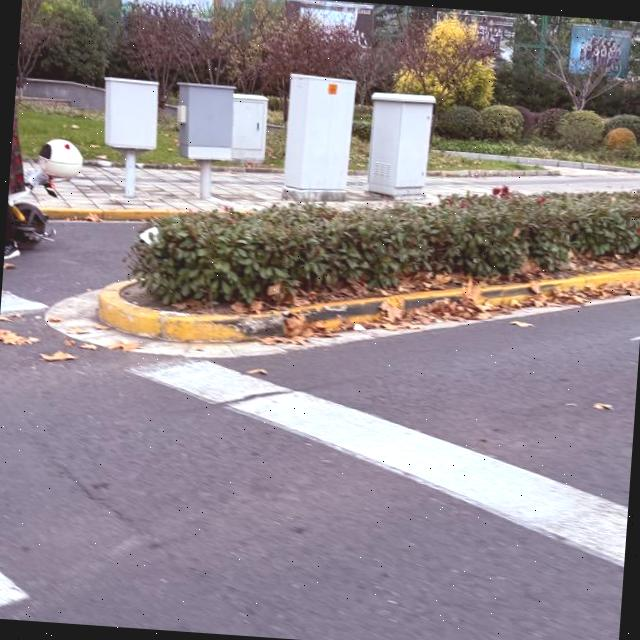curb: (96, 267, 640, 342), (444, 150, 640, 171), (40, 207, 182, 221), (428, 168, 563, 177), (491, 305, 577, 317), (582, 293, 640, 305)
